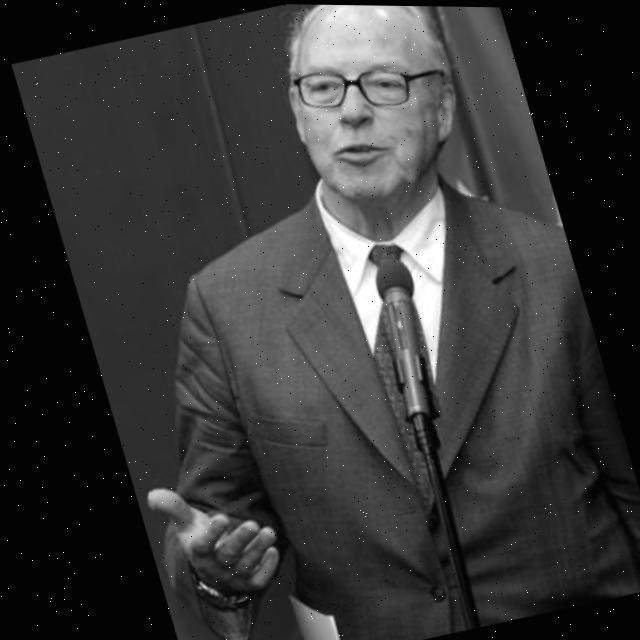face: (237, 4, 496, 238)
